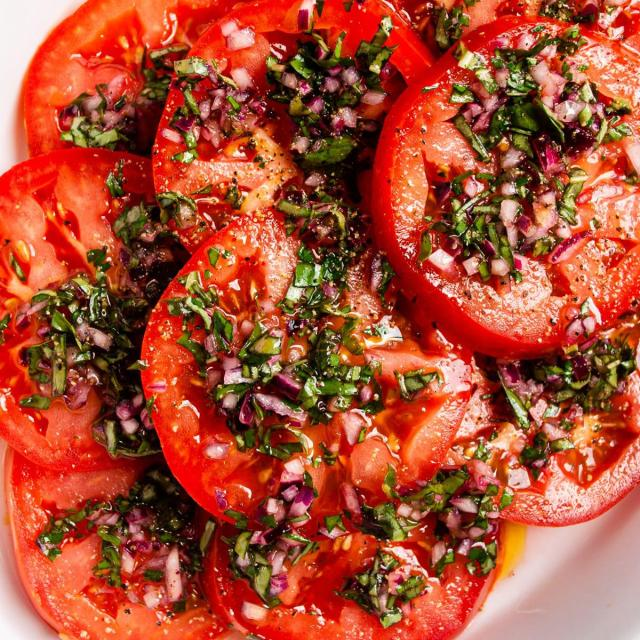Tomato: (144, 199, 456, 501), (375, 21, 640, 335)
